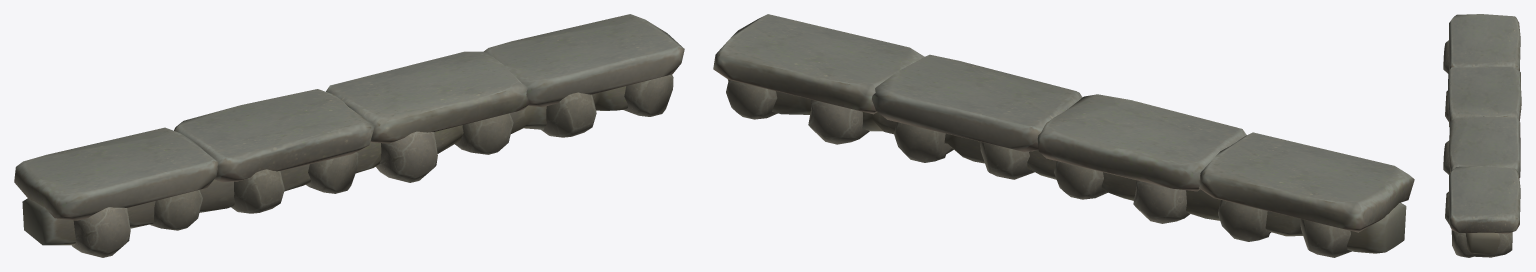
The model's file is SM_FW01_Ruins_Int_Trim_A_4m_01.fbx.
3 renders of one model, left to right at view 1: azimuth 30°, elevation 25°; view 2: azimuth 150°, elevation 25°; view 3: azimuth 270°, elevation 25°, orthographic. The views are drawn at different scales.
Parts seen in each view (by area): view 1: SM_FW01_Ruins_Int_Trim_A_4m_01_LOD0; view 2: SM_FW01_Ruins_Int_Trim_A_4m_01_LOD0; view 3: SM_FW01_Ruins_Int_Trim_A_4m_01_LOD0.
Part boxes in pixels (x1,y1,x2,y2): SM_FW01_Ruins_Int_Trim_A_4m_01_LOD0: (14, 14, 684, 257); SM_FW01_Ruins_Int_Trim_A_4m_01_LOD0: (713, 14, 1414, 257); SM_FW01_Ruins_Int_Trim_A_4m_01_LOD0: (1443, 14, 1521, 257).
Size of what is drawn, in the model's own units: 4.09 by 0.4288 by 0.6569.
